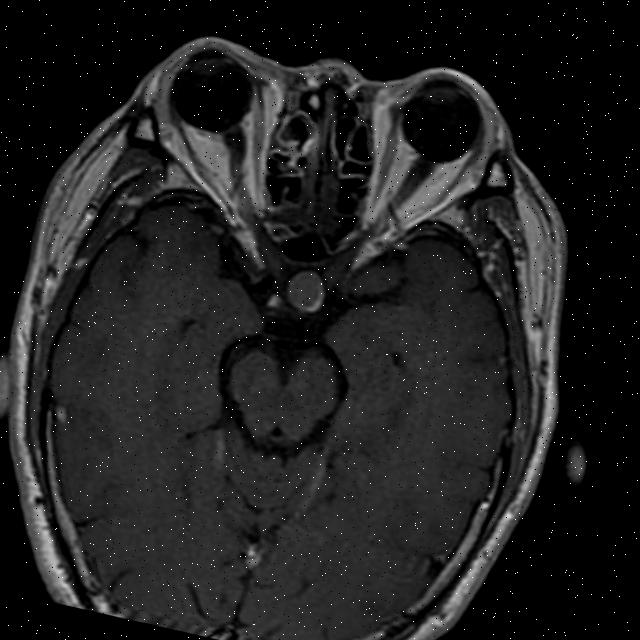Pituitary: (283, 264, 331, 314)
